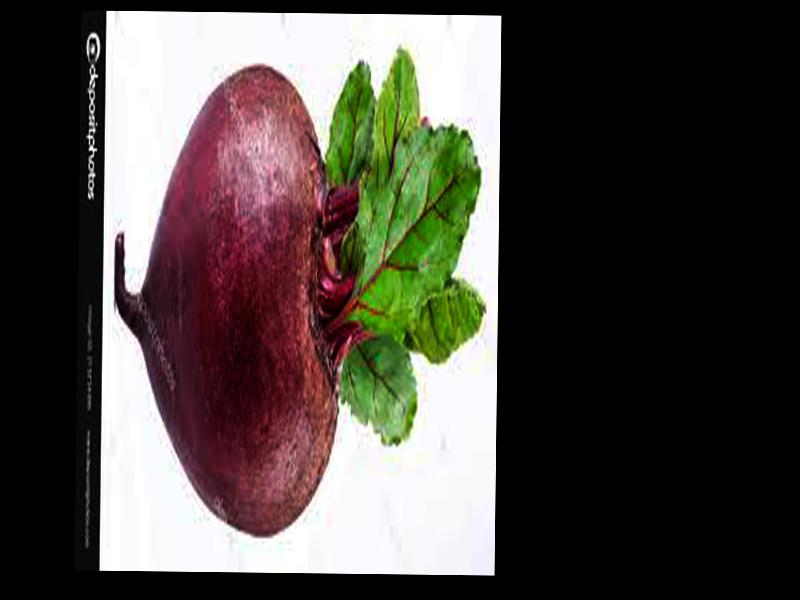Beet: (113, 46, 487, 540)
